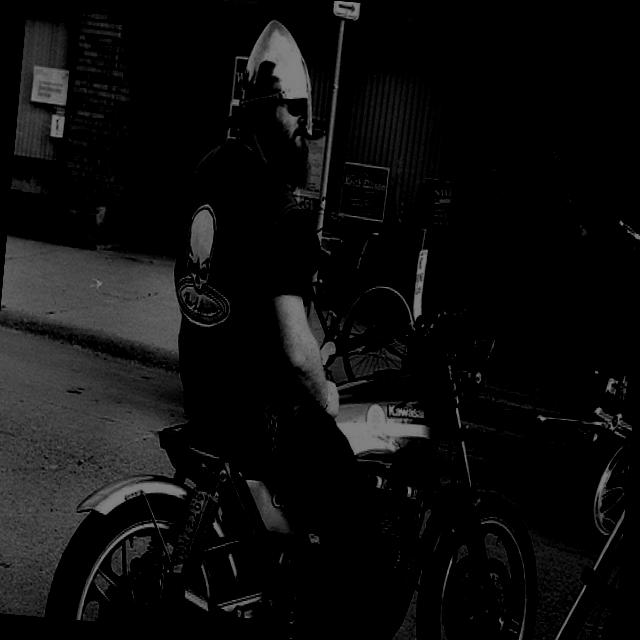Vehicle: (40, 277, 562, 640), (499, 355, 637, 640), (557, 218, 640, 546)
